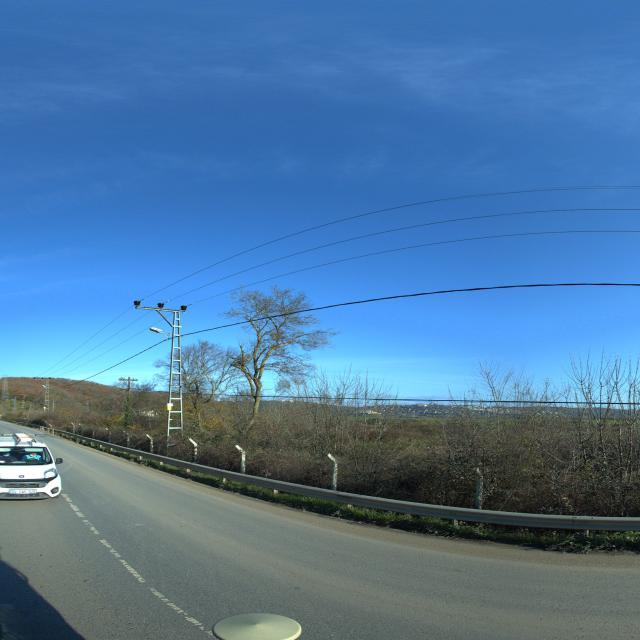Utility Pole Information Plate: (166, 403, 173, 411)
